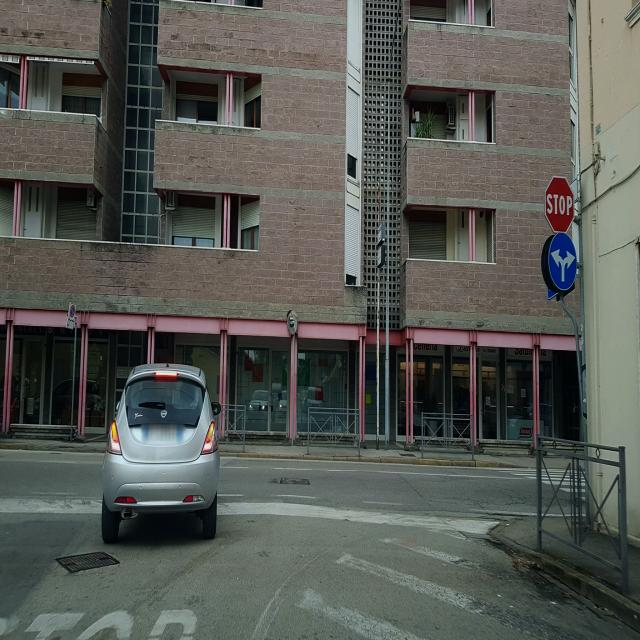car: (101, 360, 220, 542)
